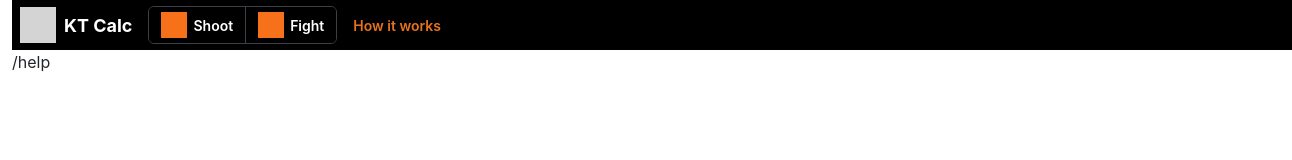
Test: navigation from /help › opens the Shoot calculator
Click the link with aria-label "Kill Team Shoot Calculator". click: x=197, y=25
box: [150,7,245,43]
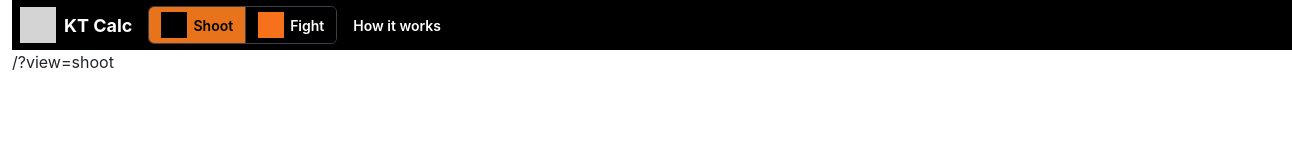
Check: the text with test id "location" reads "/?view=shoot", box [18,52,114,72]
